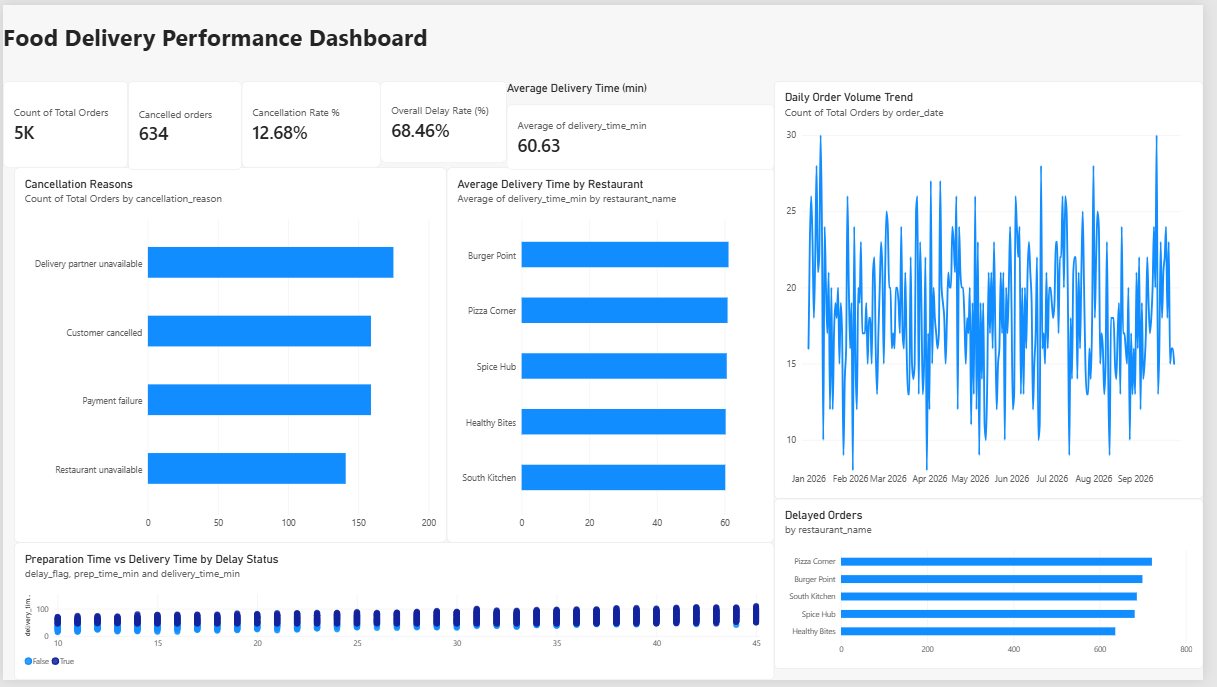

This screenshot's page, from the dashboard's own definition file:
{"tool":"powerbi","page":{"name":"Page 1","canvas":[1920,1080],"ordinal":0},"visuals":[{"type":"clusteredBarChart","title":"Average Delivery Time by Restaurant","fields":{"Category":["food_delivery_orders.restaurant_name"],"Y":["Avg(food_delivery_orders.delivery_time_min)"]},"box":[710,260,524,600],"z":0},{"type":"clusteredBarChart","title":"Cancellation Reasons","fields":{"Category":["food_delivery_orders.cancellation_reason"],"Y":["CountNonNull(food_delivery_orders.order_id)"]},"box":[18,260,692,600],"z":1},{"type":"textbox","box":[0,26,694,76],"z":2},{"type":"cardVisual","fields":{"Data":["CountNonNull(food_delivery_orders.order_id)"]},"box":[0,122,200,138],"z":3},{"type":"cardVisual","fields":{"Data":["CountNonNull(food_delivery_orders.order_id)"]},"box":[200,122,182,142],"z":4},{"type":"cardVisual","fields":{"Data":["food_delivery_orders.Cancellation Rate %"]},"box":[382,122,222,138],"z":5},{"type":"cardVisual","title":"Average Delivery Time (min)","fields":{"Data":["Avg(food_delivery_orders.delivery_time_min)"]},"box":[806,122,428,142],"z":7},{"type":"cardVisual","fields":{"Data":["food_delivery_orders.Overall Delay Rate (%)"]},"box":[604,122,202,130],"z":12},{"type":"lineChart","title":"Daily Order Volume Trend","fields":{"Category":["food_delivery_orders.order_date"],"Y":["CountNonNull(food_delivery_orders.Total Orders)"]},"box":[1234,122,686,668],"z":13},{"type":"scatterChart","title":"Preparation Time vs Delivery Time by Delay Status","fields":{"Series":["food_delivery_orders.delay_flag"],"X":["food_delivery_orders.prep_time_min"],"Y":["food_delivery_orders.delivery_time_min"]},"box":[18,860,1216,220],"z":14},{"type":"clusteredBarChart","fields":{"Category":["food_delivery_orders.restaurant_name"],"Y":["food_delivery_orders.Delayed Orders"]},"box":[1234,790,686,272],"z":15}]}

Visuals, with their boxes in screenshot pixels (x1, y1, x2, y2), scaled from the page's 1920x1080 canvas onto the 1217x687 screenshot:
"Average Delivery Time by Restaurant" clusteredBarChart: BBox(450, 165, 782, 547)
"Cancellation Reasons" clusteredBarChart: BBox(11, 165, 450, 547)
textbox: BBox(0, 17, 440, 65)
cardVisual - CountNonNull(food_delivery_orders.order_id): BBox(0, 78, 127, 165)
cardVisual - CountNonNull(food_delivery_orders.order_id): BBox(127, 78, 242, 168)
cardVisual - food_delivery_orders.Cancellation Rate %: BBox(242, 78, 383, 165)
"Average Delivery Time (min)" cardVisual: BBox(511, 78, 782, 168)
cardVisual - food_delivery_orders.Overall Delay Rate (%): BBox(383, 78, 511, 160)
"Daily Order Volume Trend" lineChart: BBox(782, 78, 1216, 503)
"Preparation Time vs Delivery Time by Delay Status" scatterChart: BBox(11, 547, 782, 686)
clusteredBarChart - food_delivery_orders.restaurant_name x food_delivery_orders.Delayed Orders: BBox(782, 503, 1216, 676)
